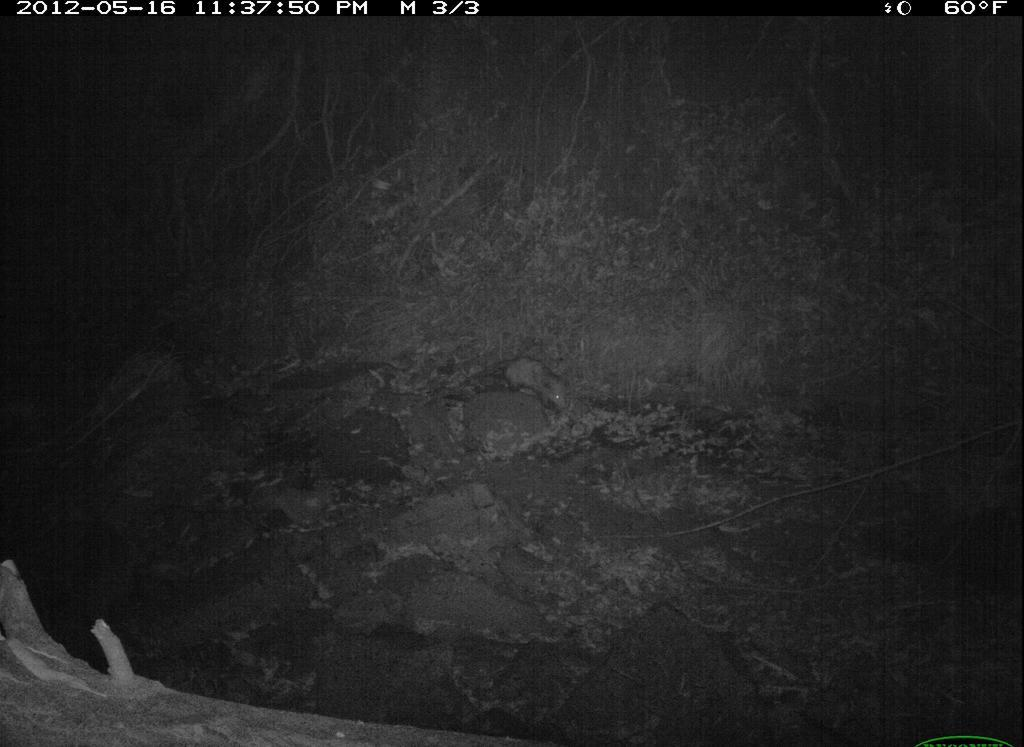opossum: (484, 342, 580, 422)
